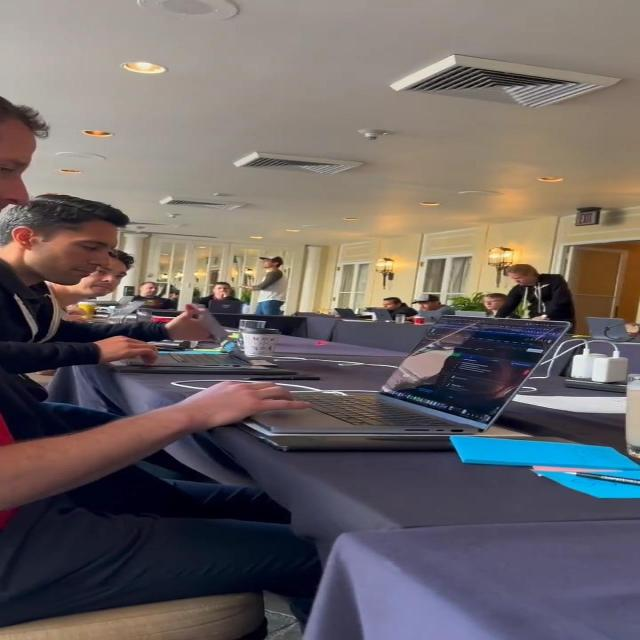NO-Mask: (34, 223, 119, 286), (0, 120, 36, 216), (68, 255, 130, 298), (509, 273, 532, 286), (484, 296, 503, 309), (140, 284, 158, 296), (418, 302, 434, 312), (215, 285, 230, 295), (381, 300, 396, 310), (261, 258, 275, 268)
